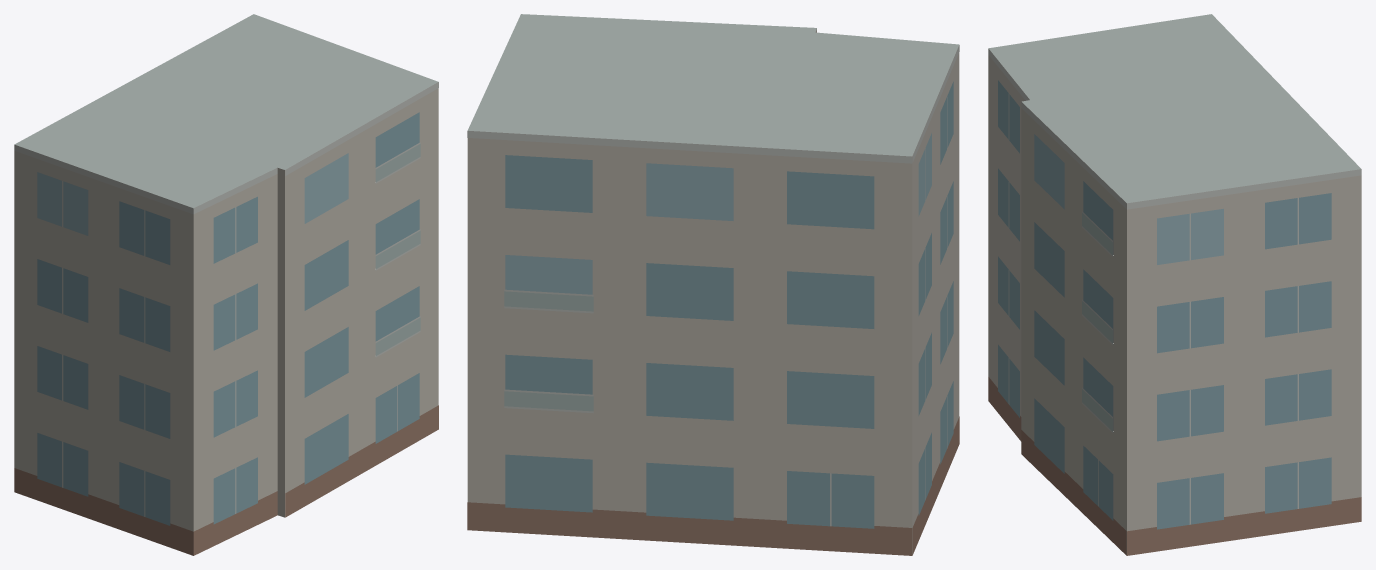
File: survey-upis-32985374.glb
The picture shows the model from 3 angles, left to right: view 1: azimuth 30°, elevation 25°; view 2: azimuth 150°, elevation 25°; view 3: azimuth 270°, elevation 25°; orthographic projection. The views are drawn at different scales.
Visible parts, largest first — view 1: survey-upis-32985374.tmp; view 2: survey-upis-32985374.tmp; view 3: survey-upis-32985374.tmp.
Boxes of the visible parts, bbox=[...] form: survey-upis-32985374.tmp: bbox=[14, 14, 438, 555]; survey-upis-32985374.tmp: bbox=[467, 14, 959, 555]; survey-upis-32985374.tmp: bbox=[988, 14, 1361, 555].
Bounding box in the file's own units: 15.79 × 13.7 × 13.16.
